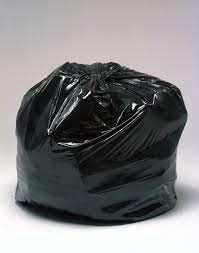Trash: (8, 52, 194, 226)
